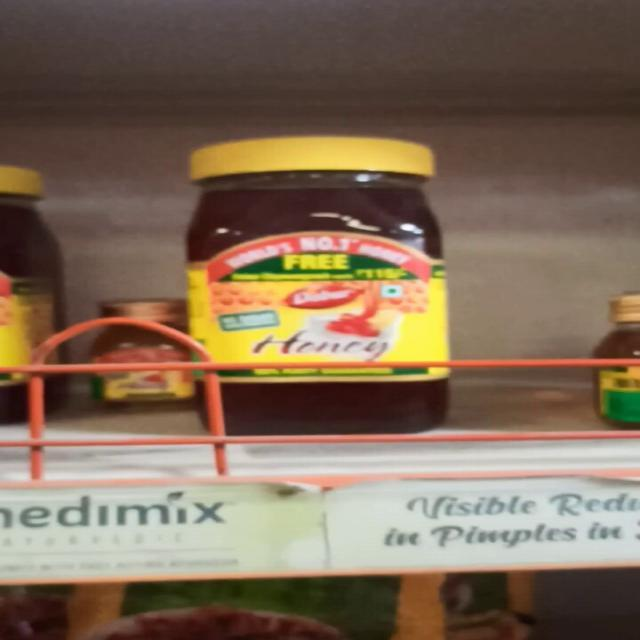Dabur Honey: (184, 132, 466, 438)
